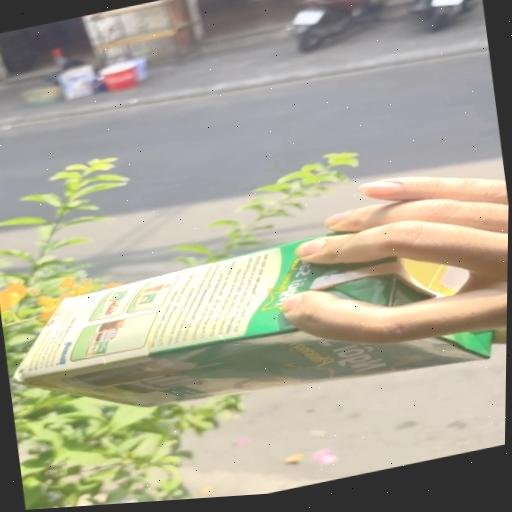ly_giay: (16, 236, 492, 406)
